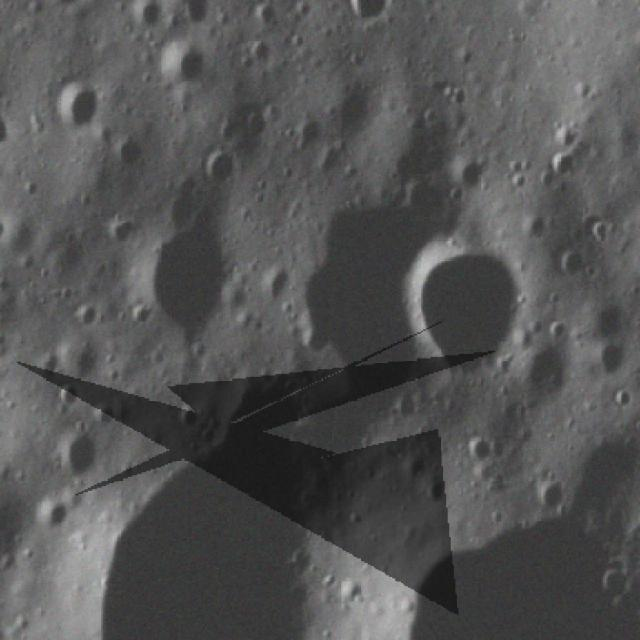crater: (406, 222, 536, 398), (128, 206, 241, 345), (40, 425, 102, 489), (154, 37, 212, 94), (191, 140, 244, 194), (54, 81, 103, 137), (334, 0, 394, 40), (450, 152, 499, 194), (331, 570, 372, 618), (30, 494, 67, 544), (528, 472, 564, 520), (458, 428, 499, 469), (556, 238, 590, 284), (606, 386, 637, 414)
